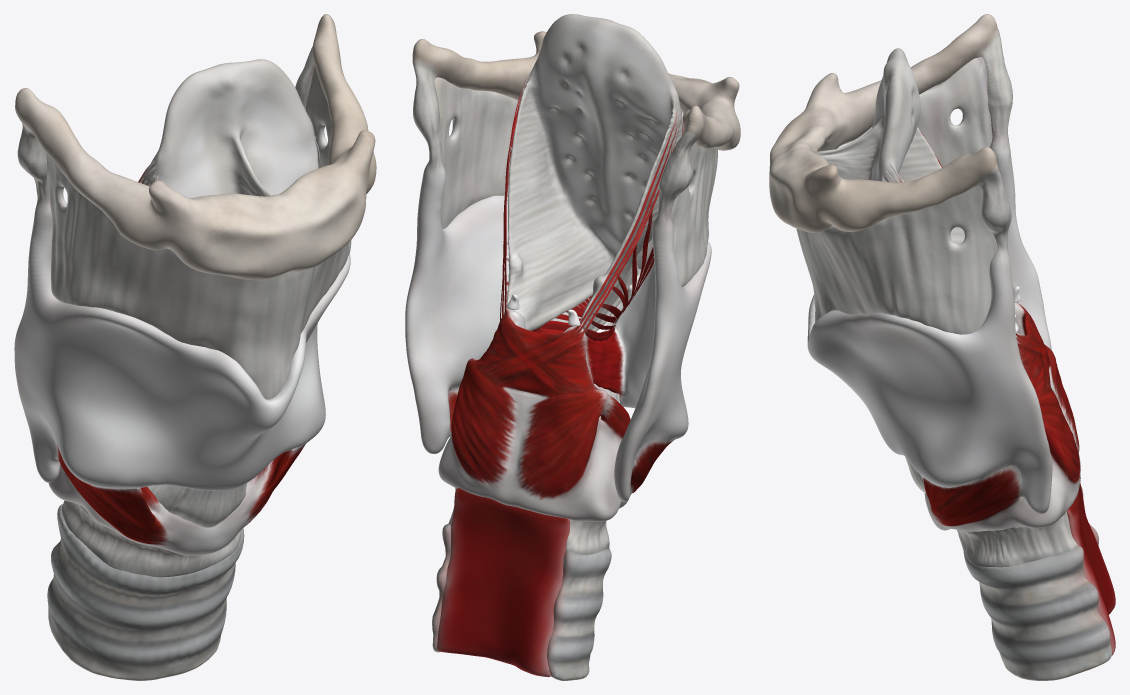
The model's file is larynx_vocal_cords.glb.
The picture shows the model from 3 angles, left to right: view 1: azimuth 30°, elevation 25°; view 2: azimuth 150°, elevation 25°; view 3: azimuth 270°, elevation 25°; orthographic projection. The views are drawn at different scales.
Parts seen in each view (by area): view 1: Object_5, Object_6, Object_10, Object_3, Object_18, Object_14, Object_12; view 2: Object_5, Object_6, Object_18, Object_3, Object_10, Object_20, Object_8, Object_14; view 3: Object_5, Object_6, Object_10, Object_3, Object_18, Object_14.
Boxes of the visible parts, left/top/right/bottom form: Object_5: left=14, top=14, right=353, bottom=490; Object_6: left=15, top=17, right=376, bottom=490; Object_10: left=46, top=66, right=351, bottom=399; Object_3: left=47, top=504, right=244, bottom=680; Object_18: left=48, top=437, right=305, bottom=555; Object_14: left=61, top=500, right=241, bottom=577; Object_12: left=147, top=483, right=247, bottom=527; Object_5: left=405, top=14, right=740, bottom=501; Object_6: left=405, top=17, right=740, bottom=501; Object_18: left=438, top=308, right=673, bottom=521; Object_3: left=432, top=488, right=611, bottom=680; Object_10: left=434, top=77, right=717, bottom=286; Object_20: left=500, top=68, right=681, bottom=337; Object_8: left=504, top=88, right=684, bottom=341; Object_14: left=448, top=488, right=609, bottom=554; Object_5: left=807, top=33, right=1052, bottom=513; Object_6: left=769, top=14, right=1052, bottom=513; Object_10: left=796, top=57, right=997, bottom=334; Object_3: left=963, top=483, right=1115, bottom=680; Object_18: left=923, top=302, right=1080, bottom=531; Object_14: left=957, top=511, right=1077, bottom=567.
Size of the model in its own units: 31.91 by 63.07 by 33.18.
Materials: 9 (8 with a texture image).
